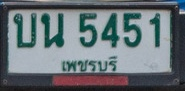txt20: (39, 11, 66, 49)
txt21: (12, 12, 38, 49)
